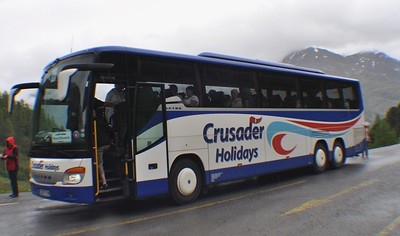bus: (28, 46, 364, 204)
